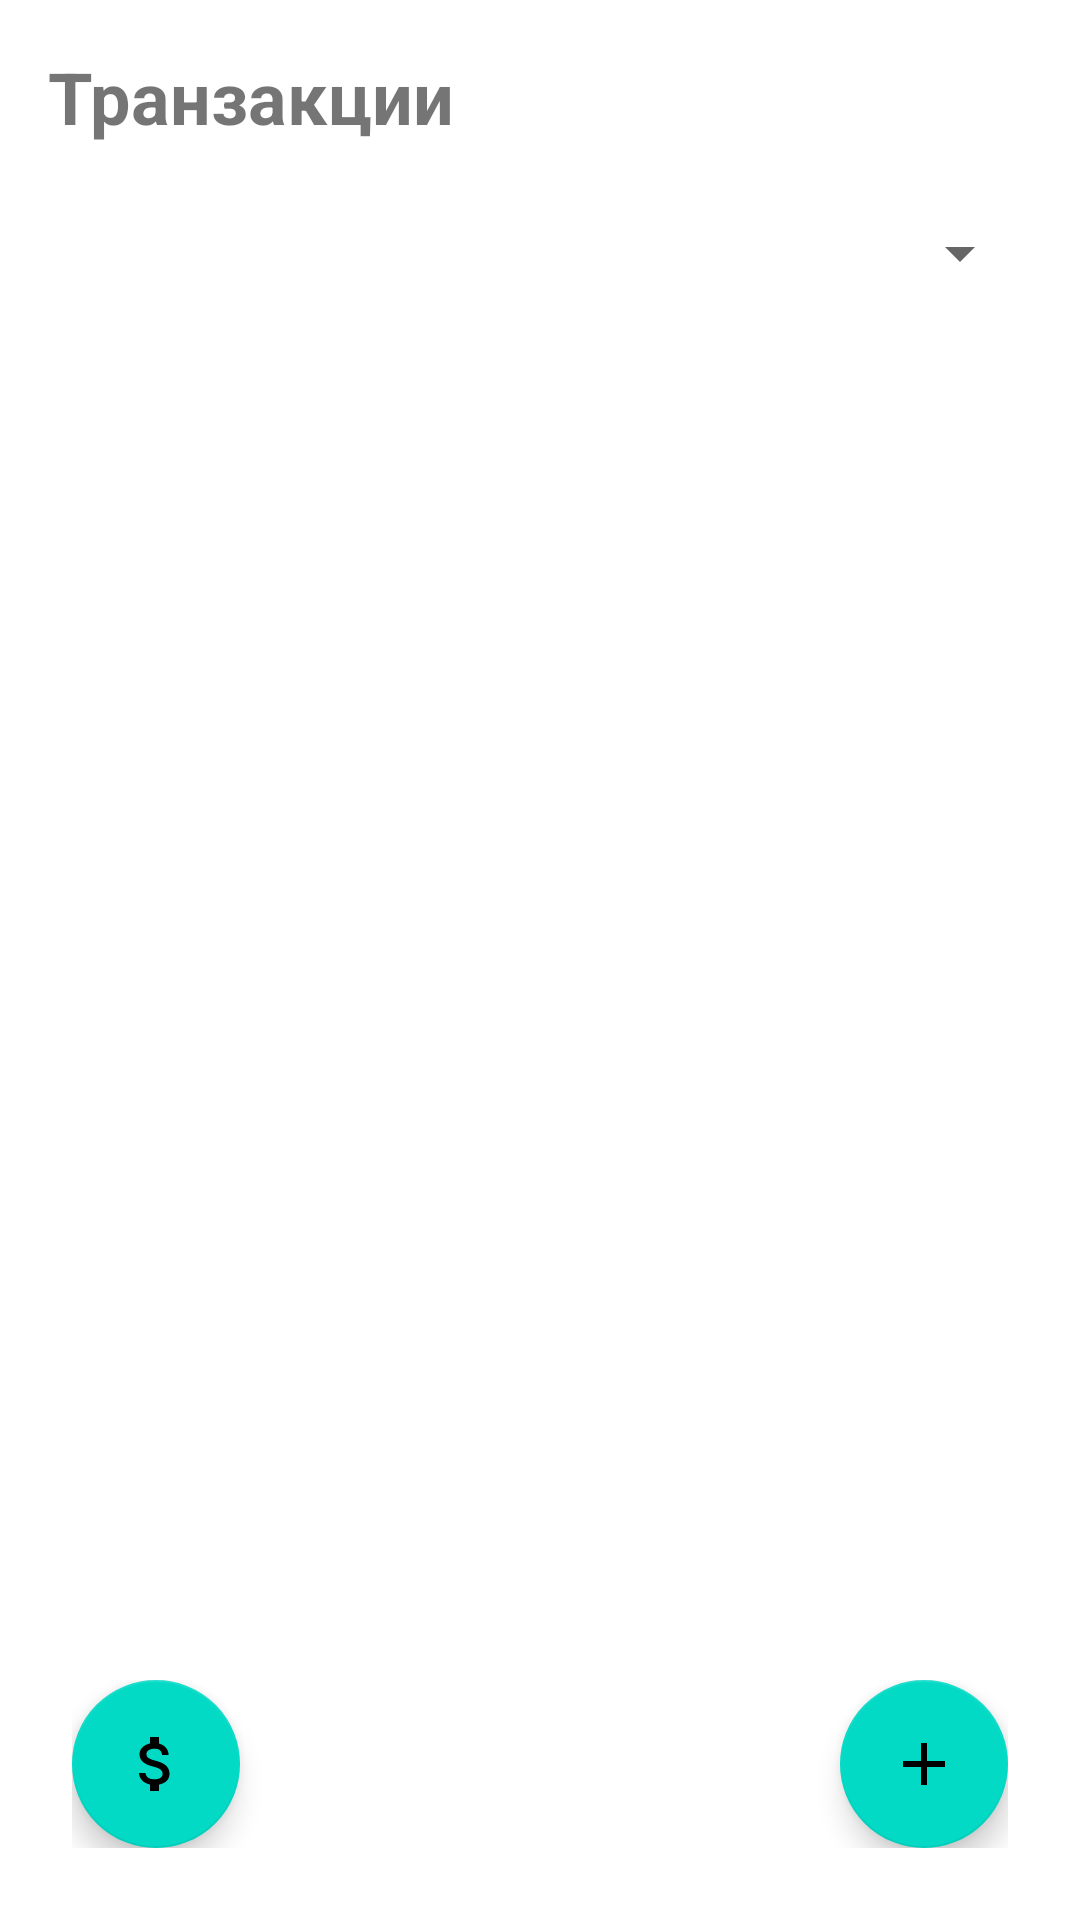

Where to tap for icons on this 1080px×1920px app screen, as [x,y]:
Добавить транзакцию: [924,1764]
Установить лимит: [156,1764]
